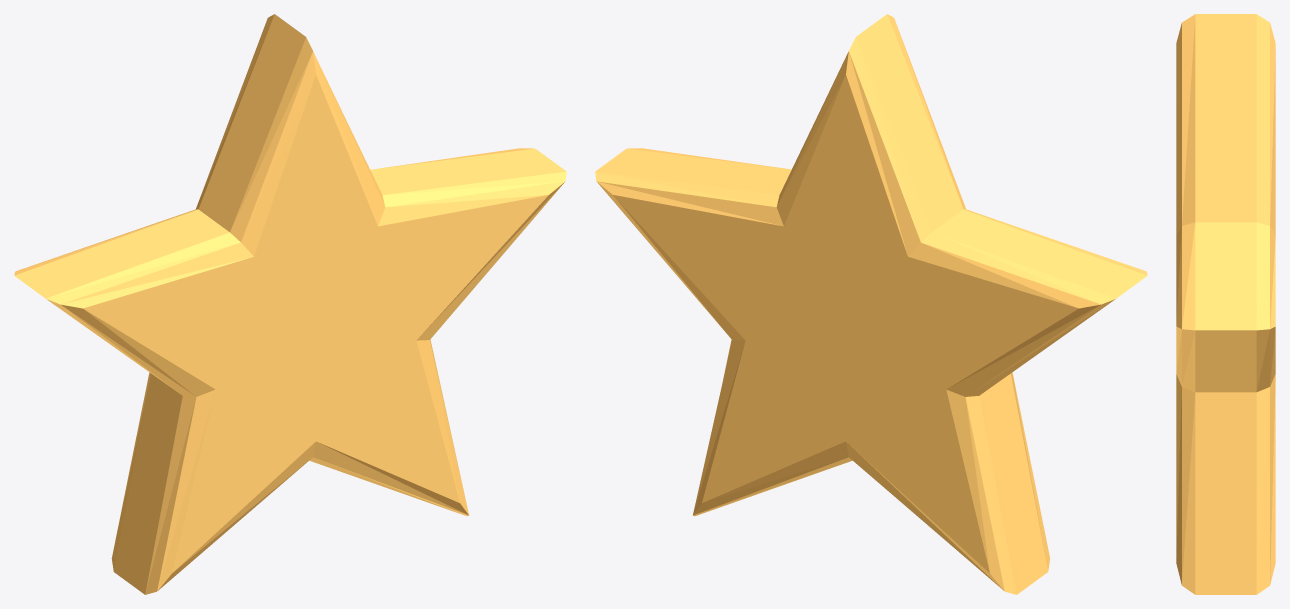
Rendered from star.glb.
The picture shows the model from 3 angles, left to right: view 1: azimuth 30°, elevation 25°; view 2: azimuth 150°, elevation 25°; view 3: azimuth 270°, elevation 25°; orthographic projection. The views are drawn at different scales.
Parts seen in each view (by area): view 1: Catchable harbor star; view 2: Catchable harbor star; view 3: Catchable harbor star.
Boxes of the visible parts, bbox=[...] form: Catchable harbor star: bbox=[14, 14, 566, 594]; Catchable harbor star: bbox=[595, 14, 1147, 594]; Catchable harbor star: bbox=[1176, 14, 1275, 594].
Size of the model in its own units: 1.53 by 1.46 by 0.26.
